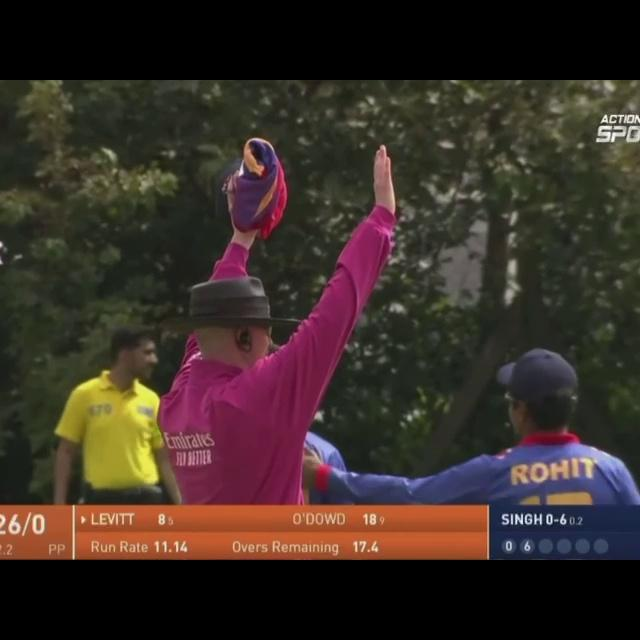umpire: (142, 98, 429, 516)
